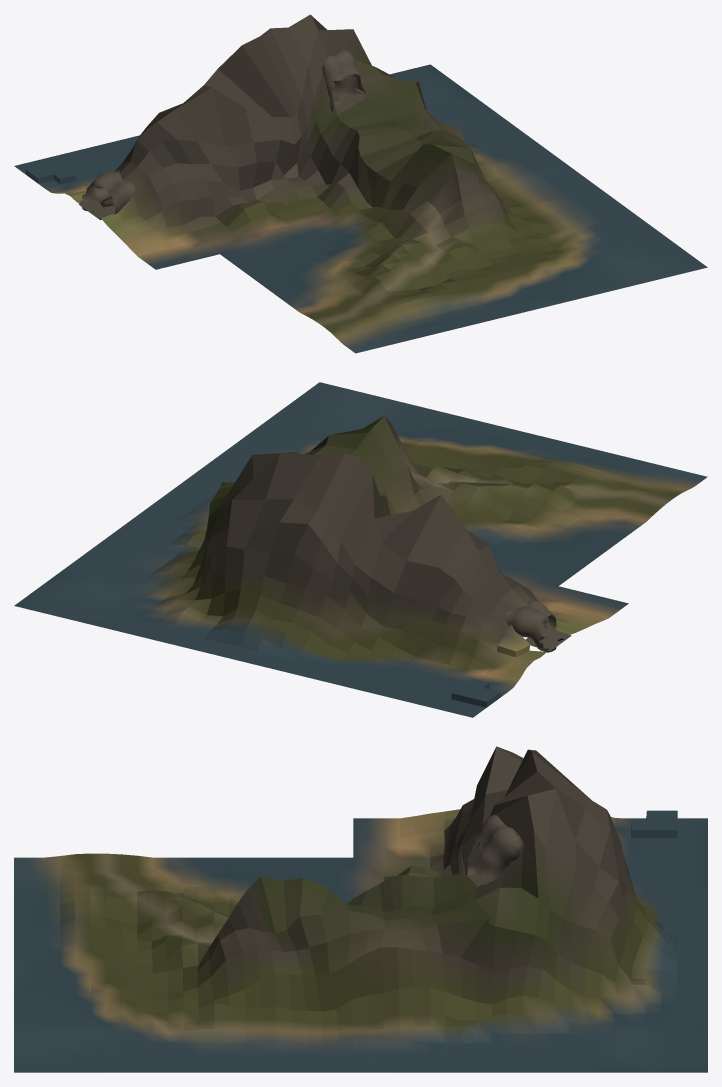
Rendered from MAPA 7 Y 8.glb.
3 renders of one model, top to bottom at view 1: azimuth 30°, elevation 25°; view 2: azimuth 150°, elevation 25°; view 3: azimuth 270°, elevation 25°, orthographic. The views are drawn at different scales.
Visible parts, largest first — view 1: MAPA 7 Y 8, Mball.074, MAPA; view 2: MAPA 7 Y 8, Mball.074, MAPA; view 3: MAPA 7 Y 8, Mball.074.
Boxes of the visible parts, bbox=[...] form: MAPA 7 Y 8: bbox=[14, 14, 707, 353]; Mball.074: bbox=[80, 49, 365, 219]; MAPA: bbox=[25, 126, 376, 207]; MAPA 7 Y 8: bbox=[14, 382, 707, 717]; Mball.074: bbox=[504, 600, 563, 652]; MAPA: bbox=[380, 496, 529, 707]; MAPA 7 Y 8: bbox=[14, 746, 707, 1072]; Mball.074: bbox=[467, 815, 523, 885].
Size of the model in its own units: 48.51 by 16.58 by 55.56.
